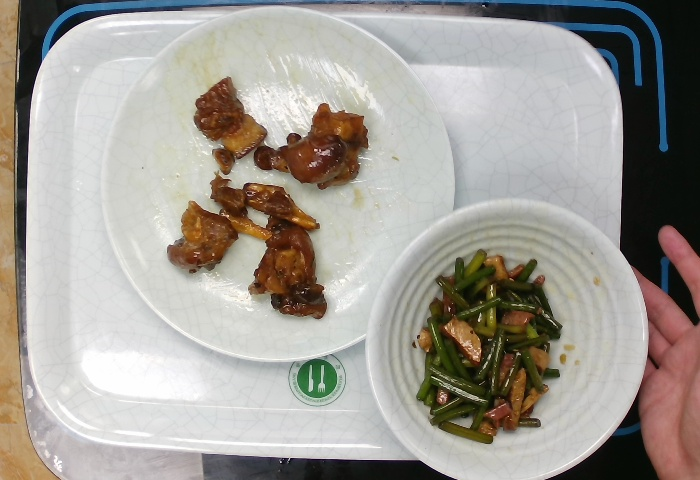JYsf-Da_Yuan_Pan: (99, 6, 458, 370)
JYsf-Xiao_Tang_Wan: (363, 193, 653, 478)
